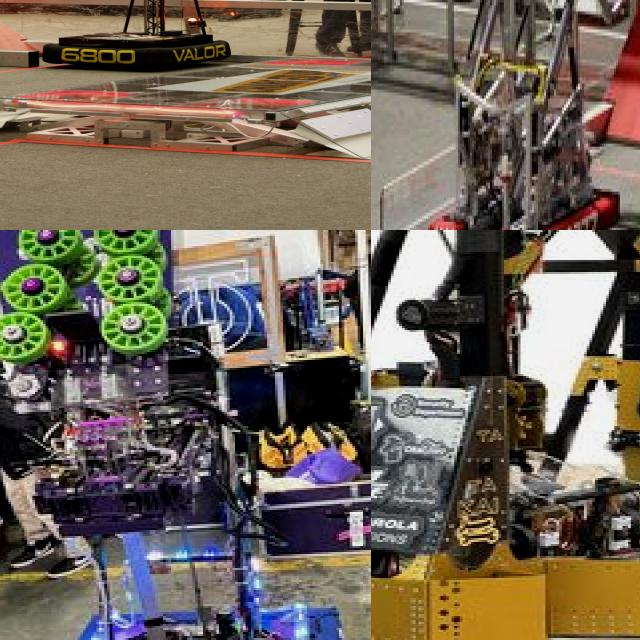FRC-Robots: (0, 230, 371, 640), (371, 230, 640, 640), (426, 0, 640, 230), (0, 0, 238, 84)
